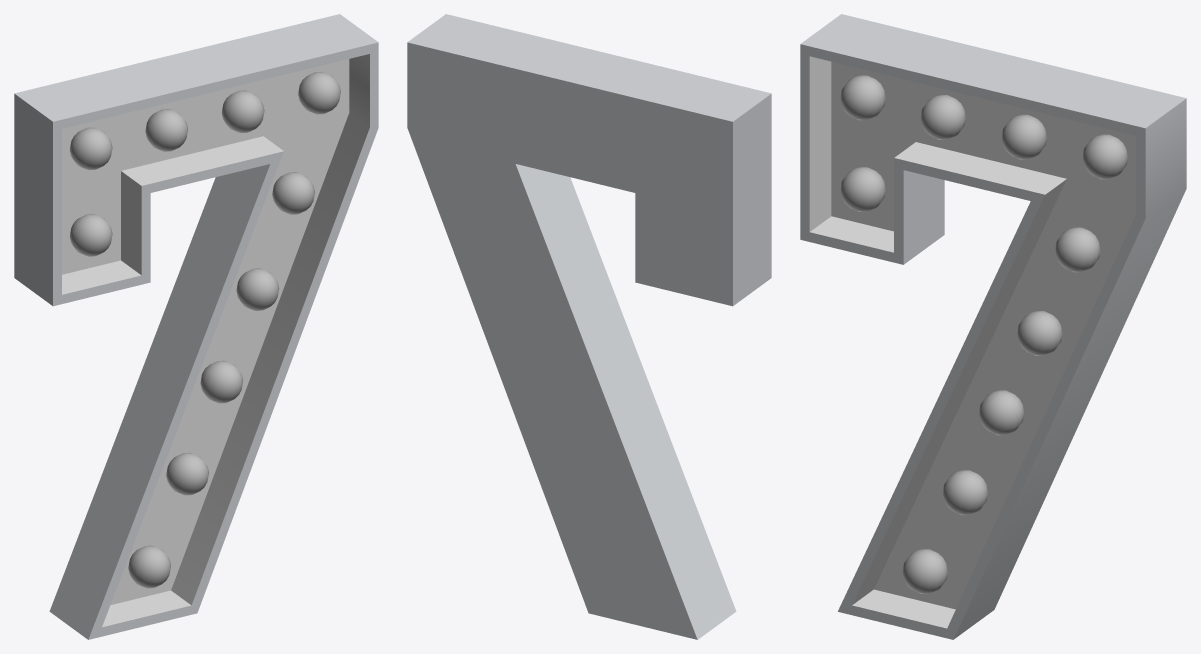
File: LettersBulb01_7.FBX
The picture shows the model from 3 angles, left to right: view 1: azimuth 30°, elevation 25°; view 2: azimuth 150°, elevation 25°; view 3: azimuth 330°, elevation 25°; orthographic projection. The views are drawn at different scales.
Visible parts, largest first — view 1: LettersBulb01_7; view 2: LettersBulb01_7; view 3: LettersBulb01_7.
Boxes of the visible parts, <box> form: LettersBulb01_7: <box>14,14,378,639</box>; LettersBulb01_7: <box>407,14,771,639</box>; LettersBulb01_7: <box>800,14,1186,639</box>.
Size of what is drawn, in the model's own units: 0.7537 by 1.16 by 0.1563.
